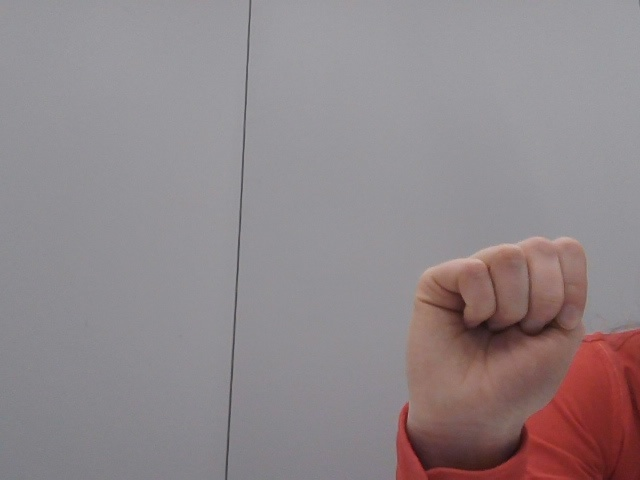down: (387, 224, 610, 480)
